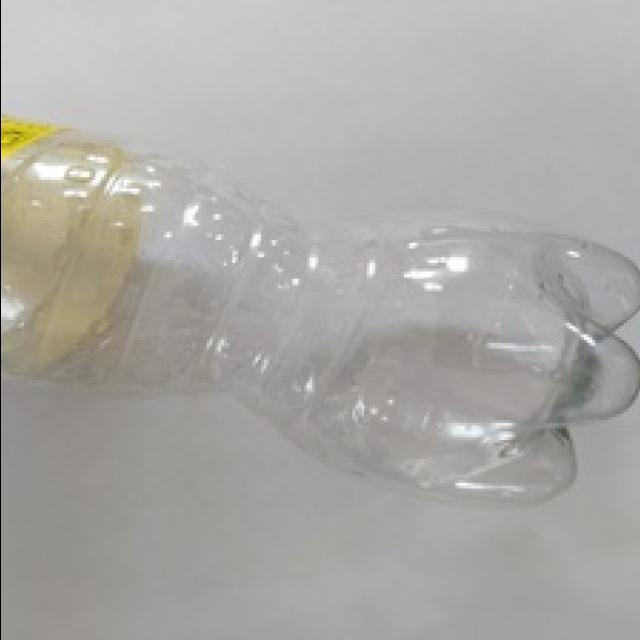good: (4, 108, 640, 518)
